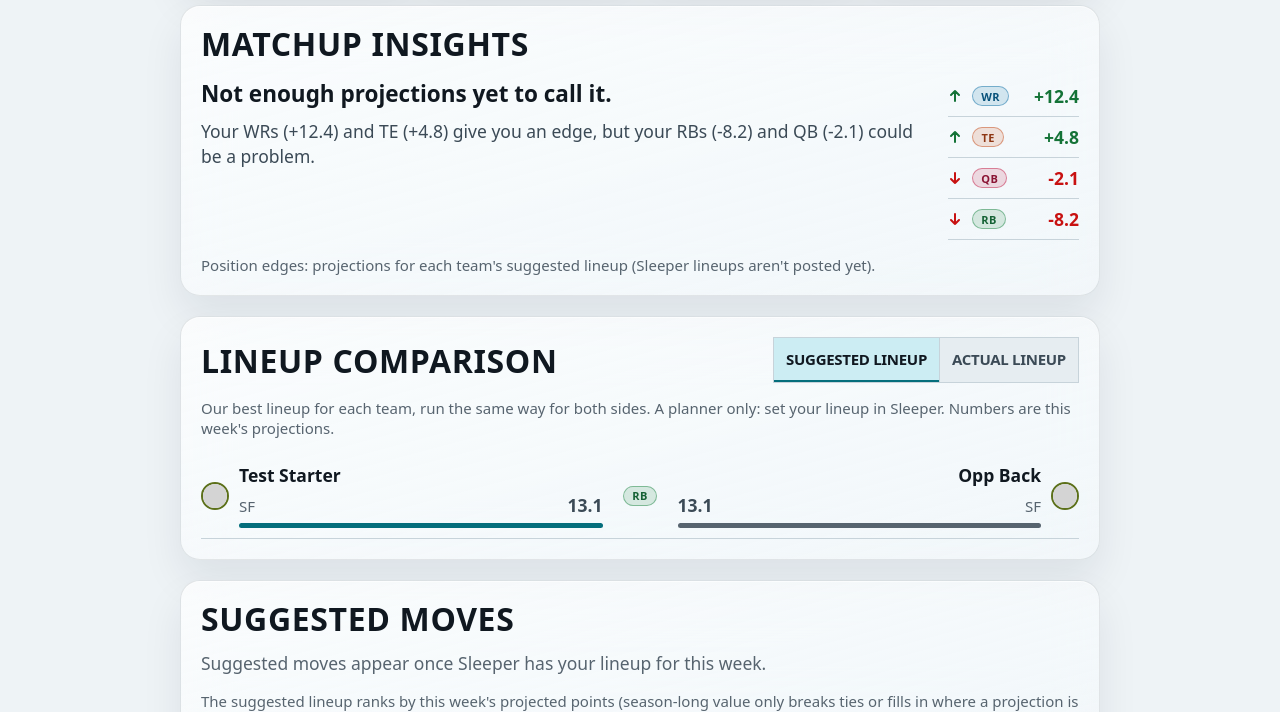
it: MatchupContent › pre-game with no posted lineups: suggested tab by default, honest odds and moves copy
(page scrolled)
Check: the text "Suggested moves appear once Sleeper has your lineup for this week." is shown, box [201, 651, 766, 675]
Check: the text "projections for each team's suggested lineup" is shown, box [201, 255, 875, 275]
Click the tab "Actual Lineup".
click(1008, 360)  # box [939, 338, 1078, 382]
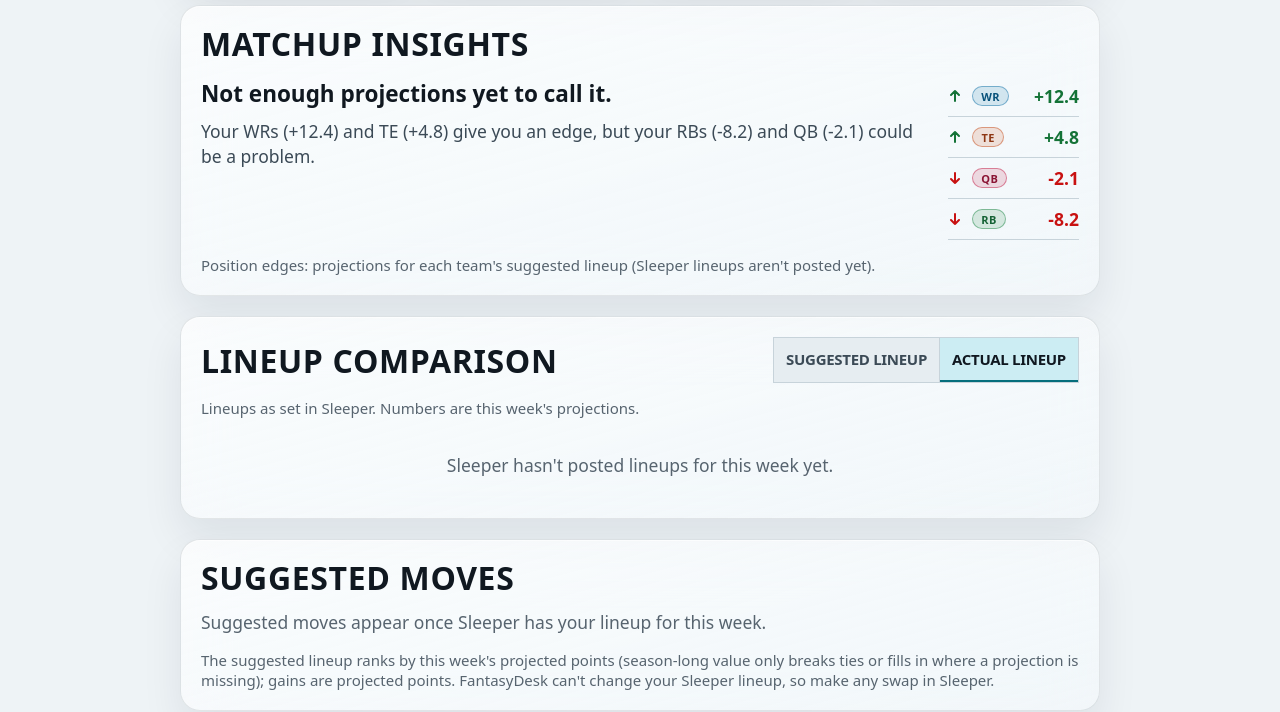
Check: the text "Sleeper hasn't posted lineups for this week yet." is shown, box [447, 453, 833, 477]
